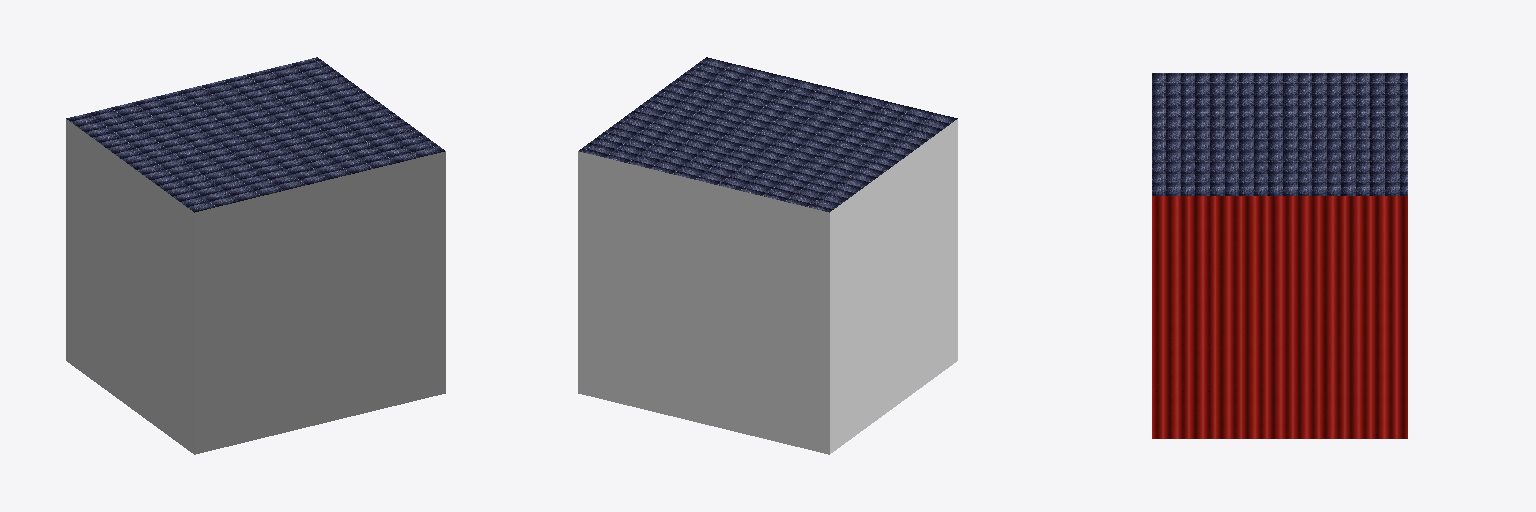
3 views of the same model, side by side, from view 1: azimuth 30°, elevation 25°; view 2: azimuth 150°, elevation 25°; view 3: azimuth 270°, elevation 25° (orthographic).
Visible parts, largest first — view 1: Mesh1 Group1 Model; view 2: Mesh1 Group1 Model; view 3: Mesh1 Group1 Model.
Boxes of the visible parts, x1,y1,x2,y2 form: Mesh1 Group1 Model: [66, 57, 445, 454]; Mesh1 Group1 Model: [578, 57, 957, 454]; Mesh1 Group1 Model: [1152, 73, 1407, 438].
Size of the model in its own units: 1.12 by 1.03 by 0.99.
Materials: 4 (2 with a texture image).